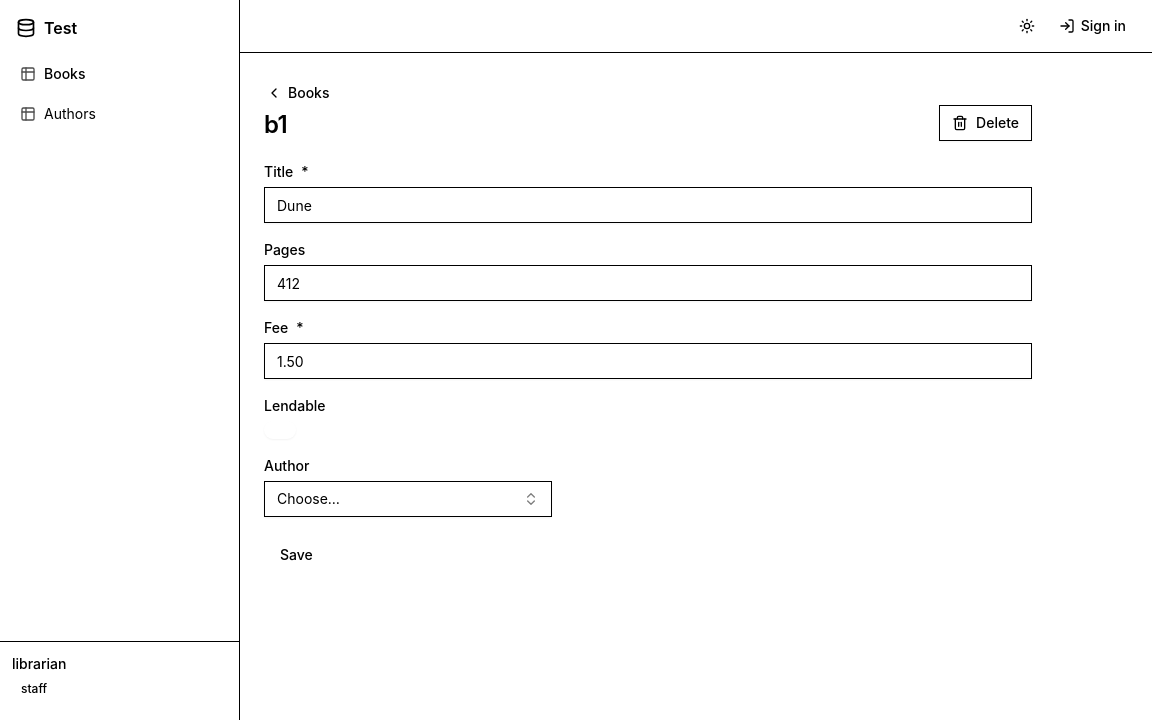
Scenario: record forms › sends the version it opened, and shows a conflict when the record moved on
The width and height of the screenshot is (1152, 720).
Replace the text in the field named "Title*" with "Dune Messiah": (648, 205) [264,187,1032,223]
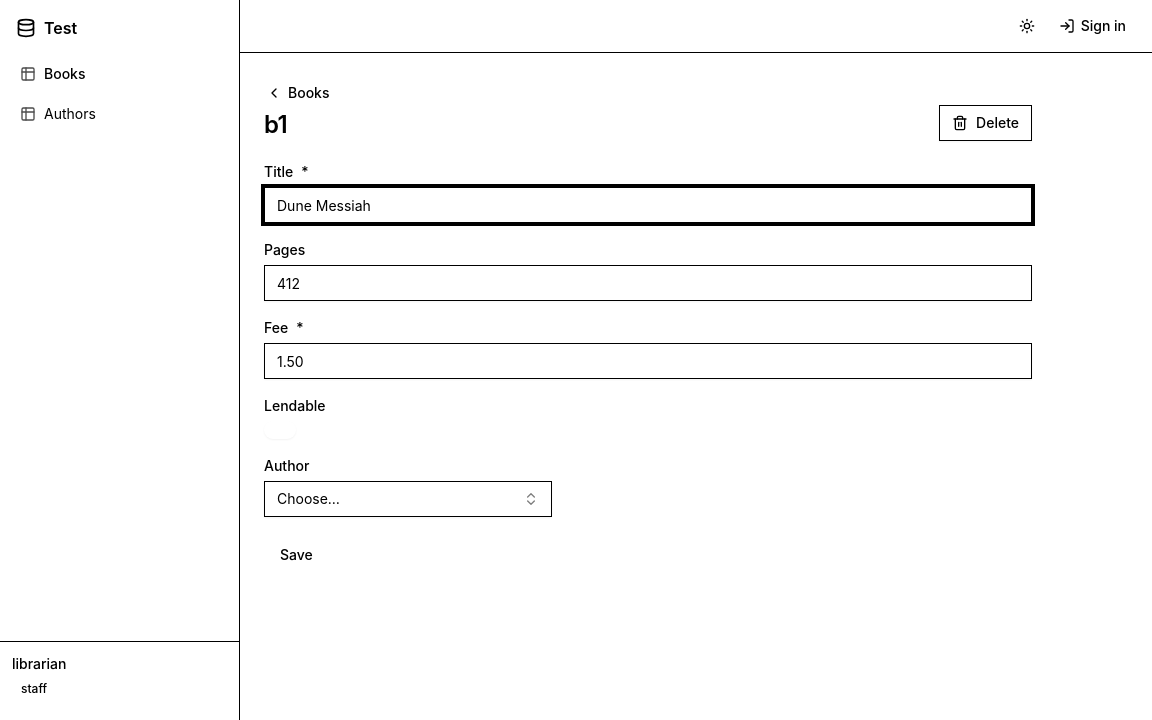
Click the button "Save": (296, 555) [264,537,329,573]
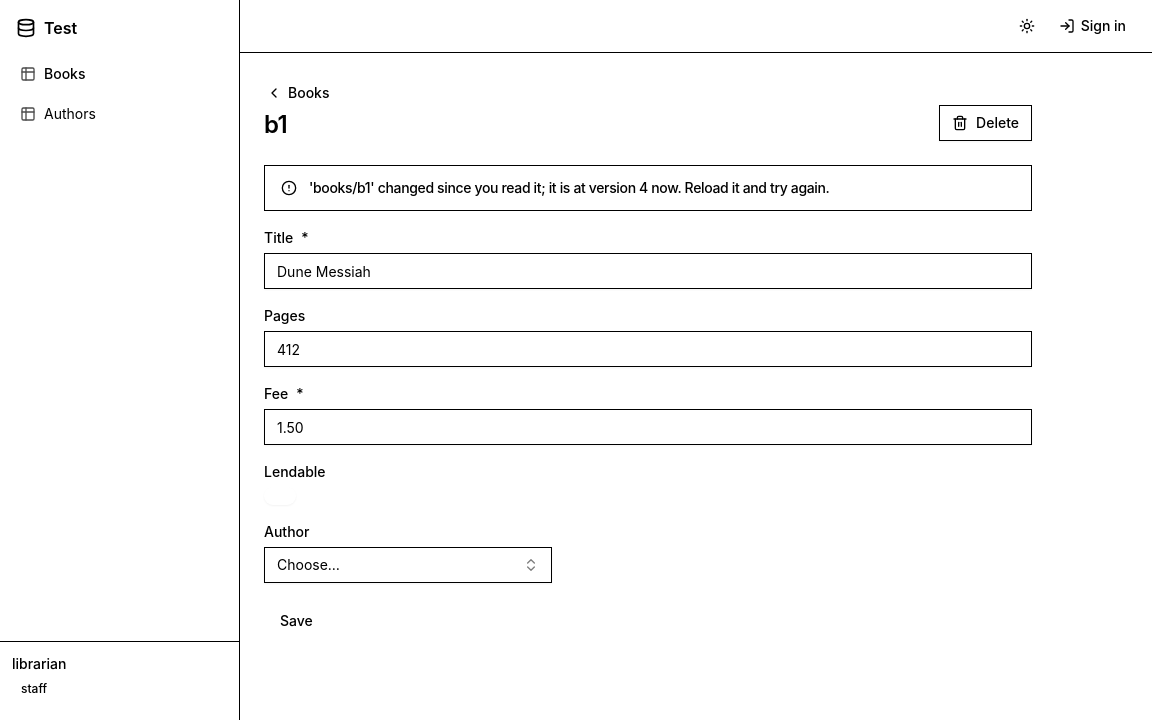
Result: the text "changed since you read it" is shown at [309,179,830,196]
